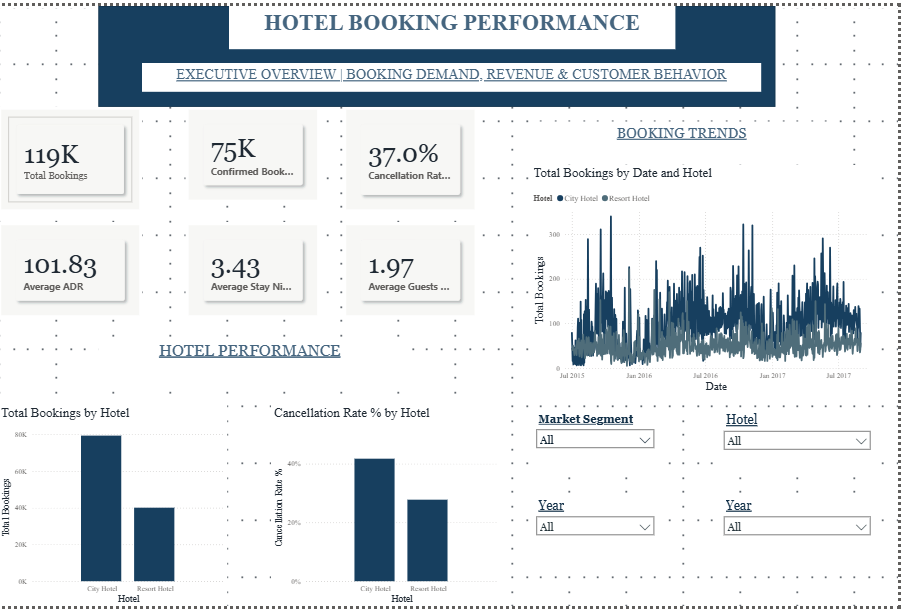

The page's visual inventory and layout, read from the dashboard file:
{"tool":"powerbi","page":{"name":"EXECUTIVE OVERVIEW","canvas":[1500,1000],"ordinal":0},"visuals":[{"type":"cardVisual","fields":{"Data":["FactHotelBookings.Total Bookings"]},"box":[0,168,240,176],"z":0},{"type":"cardVisual","fields":{"Data":["FactHotelBookings.Confirmed Bookings"]},"box":[312,168,224,160],"z":1000},{"type":"cardVisual","fields":{"Data":["FactHotelBookings.Average ADR"]},"box":[0,360,240,160],"z":2000},{"type":"cardVisual","fields":{"Data":["FactHotelBookings.Average Stay Nights"]},"box":[312,360,224,160],"z":3000},{"type":"cardVisual","fields":{"Data":["FactHotelBookings.Cancellation Rate %"]},"box":[576,168,224,176],"z":4000},{"type":"cardVisual","fields":{"Data":["FactHotelBookings.Average Guests per Booking"]},"box":[576,360,224,160],"z":5000},{"type":"lineChart","fields":{"Category":["DimDate.Date"],"Series":["DimHotel.Hotel"],"Y":["FactHotelBookings.Total Bookings"]},"box":[888,264,576,384],"z":6000},{"type":"clusteredColumnChart","fields":{"Category":["DimHotel.Hotel"],"Y":["FactHotelBookings.Total Bookings"]},"box":[0,664,382,336],"z":7000},{"type":"clusteredColumnChart","fields":{"Category":["DimHotel.Hotel"],"Y":["FactHotelBookings.Cancellation Rate %"]},"box":[456,664,382,336],"z":8000},{"type":"slicer","fields":{"Values":["DimHotel.Hotel"]},"box":[1200,672,264,96],"z":9000},{"type":"slicer","fields":{"Values":["FactHotelBookings.market segment"]},"box":[888,672,216,96],"z":10000},{"type":"shape","box":[168,0,1128,168],"z":10500},{"type":"textbox","box":[384,0,744,72],"z":11000},{"type":"textbox","box":[240,96,1032,48],"z":12000},{"type":"textbox","box":[888,192,504,72],"z":12001},{"type":"textbox","box":[168,552,504,72],"z":12002},{"type":"slicer","fields":{"Values":["FactHotelBookings.Year"]},"box":[888,816,216,120],"z":12003},{"type":"slicer","fields":{"Values":["DimDate.Year"]},"box":[1200,816,264,120],"z":12004}]}

Visuals, with their boxes in screenshot pixels (x1, y1, x2, y2), scaled from the page's 1500x1000 canvas onto the 903x616 screenshot:
cardVisual - FactHotelBookings.Total Bookings: BBox(0, 103, 144, 212)
cardVisual - FactHotelBookings.Confirmed Bookings: BBox(188, 103, 323, 202)
cardVisual - FactHotelBookings.Average ADR: BBox(0, 222, 144, 320)
cardVisual - FactHotelBookings.Average Stay Nights: BBox(188, 222, 323, 320)
cardVisual - FactHotelBookings.Cancellation Rate %: BBox(347, 103, 482, 212)
cardVisual - FactHotelBookings.Average Guests per Booking: BBox(347, 222, 482, 320)
lineChart - DimDate.Date x DimHotel.Hotel: BBox(535, 163, 881, 399)
clusteredColumnChart - DimHotel.Hotel x FactHotelBookings.Total Bookings: BBox(0, 409, 230, 615)
clusteredColumnChart - DimHotel.Hotel x FactHotelBookings.Cancellation Rate %: BBox(275, 409, 504, 615)
slicer - DimHotel.Hotel: BBox(722, 414, 881, 473)
slicer - FactHotelBookings.market segment: BBox(535, 414, 665, 473)
shape: BBox(101, 0, 780, 103)
textbox: BBox(231, 0, 679, 44)
textbox: BBox(144, 59, 766, 89)
textbox: BBox(535, 118, 838, 163)
textbox: BBox(101, 340, 405, 384)
slicer - FactHotelBookings.Year: BBox(535, 503, 665, 577)
slicer - DimDate.Year: BBox(722, 503, 881, 577)
